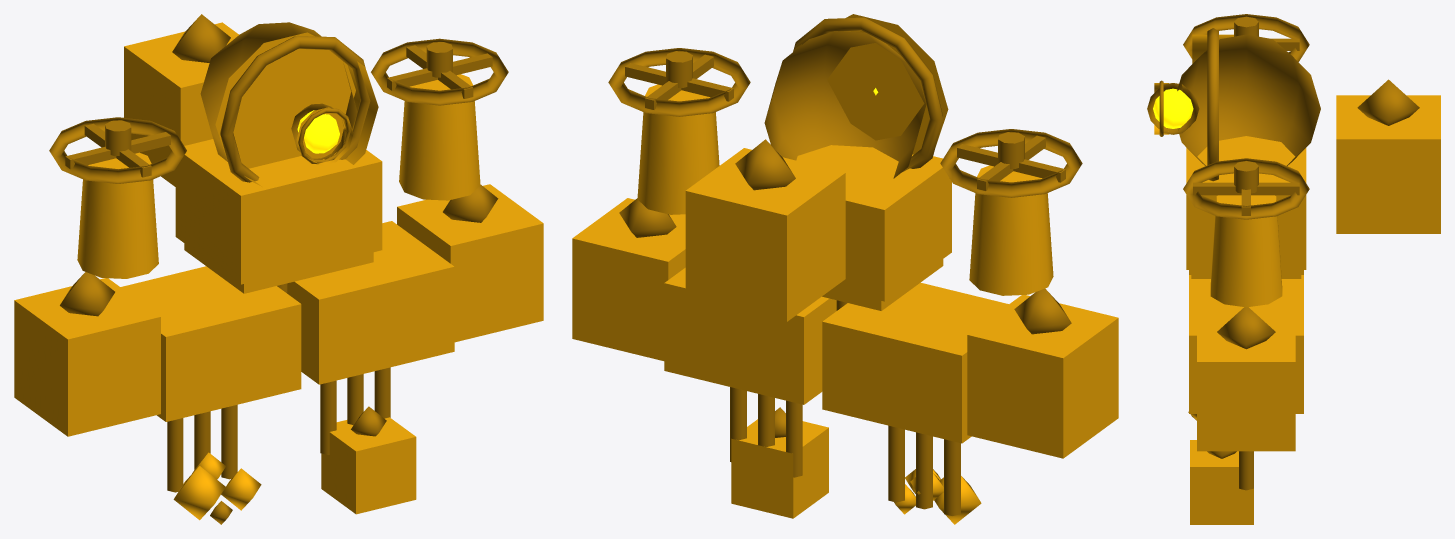
File: golem_039.glb
The picture shows the model from 3 angles, left to right: view 1: azimuth 30°, elevation 25°; view 2: azimuth 150°, elevation 25°; view 3: azimuth 270°, elevation 25°; orthographic projection. The views are drawn at different scales.
Parts seen in each view (by area): view 1: Body, Detail, Glow; view 2: Body, Detail; view 3: Body, Detail, Glow.
Part boxes in pixels (x1,y1,x2,y2): Body: (14, 22, 543, 520); Detail: (49, 14, 508, 524); Glow: (297, 110, 339, 153); Body: (572, 14, 1118, 524); Detail: (608, 17, 1082, 515); Body: (1154, 34, 1440, 524); Detail: (1147, 14, 1419, 490); Glow: (1153, 88, 1193, 128).
Size of the model in its own units: 1.48 by 1.43 by 0.8602.
